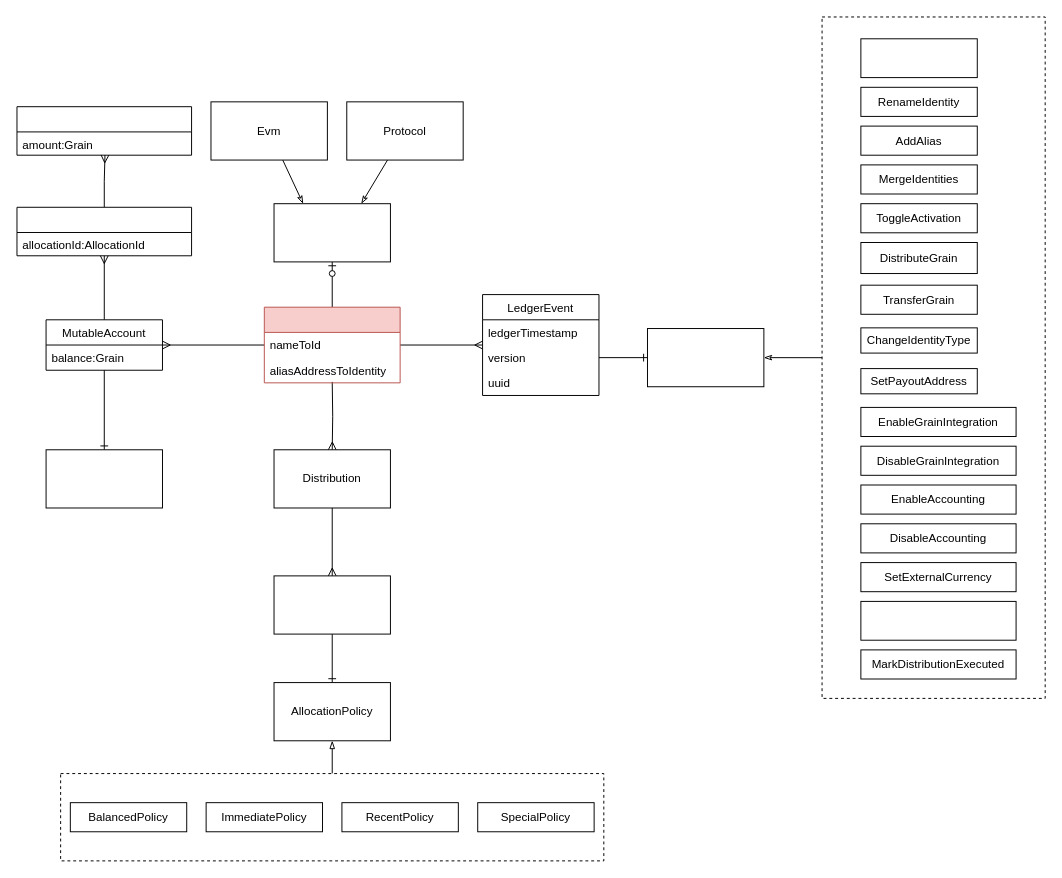
Some shapes in this 1062 by 878 pixel diagram are drawn without their labels. Each missing label, with the box of its shape:
Action: (647, 328, 764, 387)
Allocation: (273, 575, 390, 634)
AllocationReceipt: (16, 206, 192, 256)
CreateIdentity: (860, 38, 977, 78)
Currency: (273, 203, 390, 262)
GrainReceipt: (16, 106, 192, 155)
Identity: (45, 449, 162, 508)
Ledger: (263, 306, 400, 383)
RemoveExternalCurrrency: (860, 600, 1016, 640)
